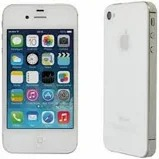iphone: (1, 1, 84, 157)
iphone5: (1, 1, 83, 157)
